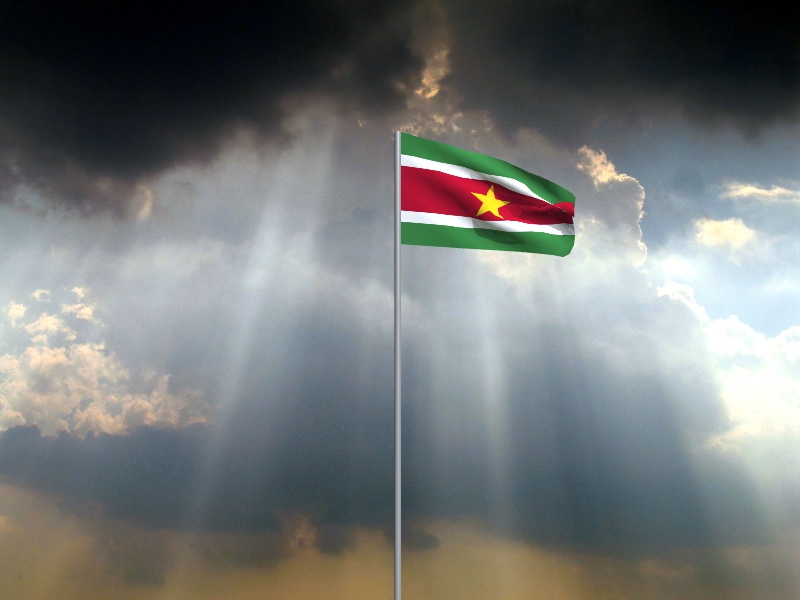sr: (401, 133, 578, 259)
